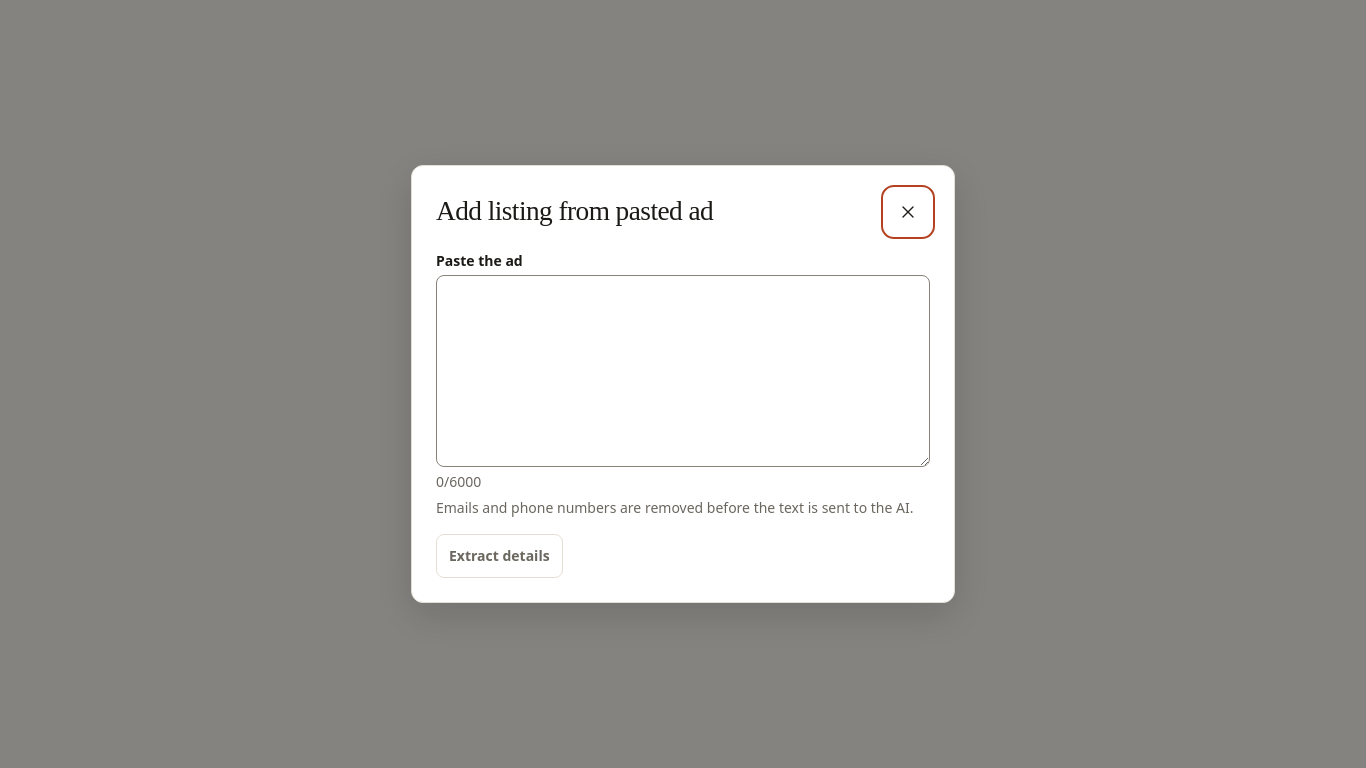
announces warnings and asks the user to enter warm rent if only cold rent was found
The width and height of the screenshot is (1366, 768).
Step 1. Type "Möbliertes Zimmer in Jena, 340 Euro warm." into the text box labelled "Paste the ad" → (683, 371), box [436,275,930,467]
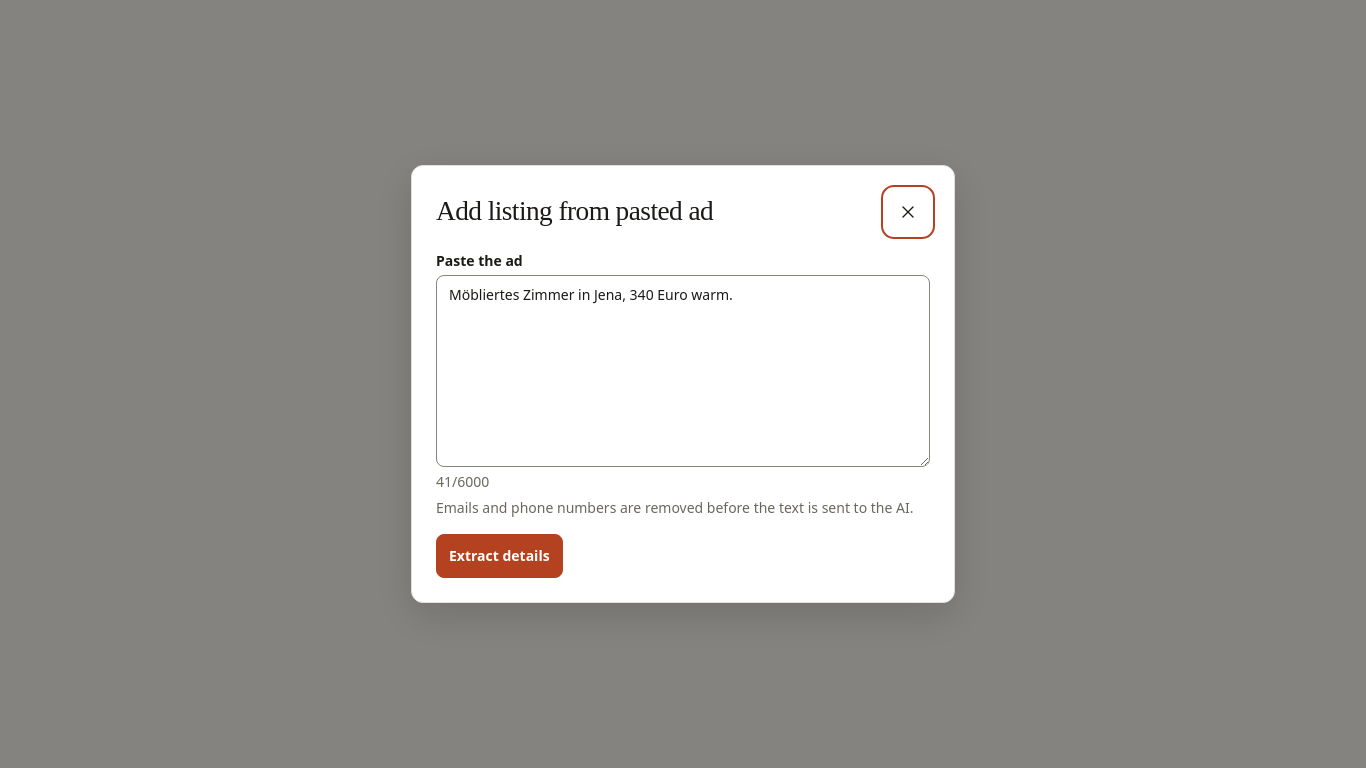
Step 2. Click the button "Extract details" → (499, 556), box [436,534,563,578]
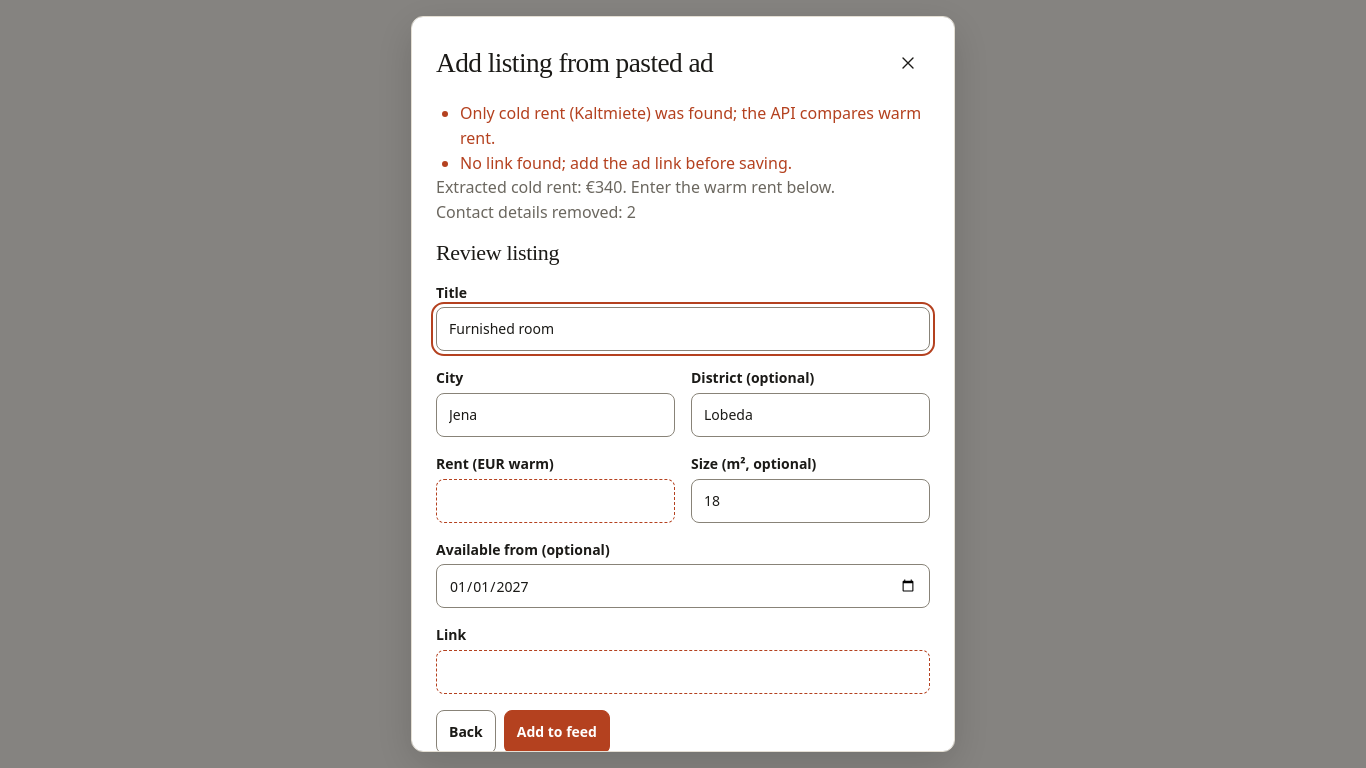
Check: the number of list items is 2, box [460,101,930,151]; [460,152,792,174]
Check: the text "Contact details removed: 2" is shown, box [436,201,636,223]
Check: the number field labelled "Rent (EUR warm)" is empty, box [436,479,675,523]
